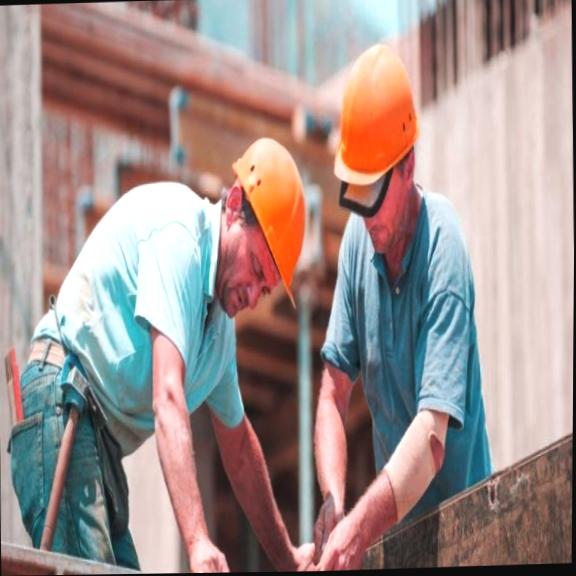no_safety_vest: (315, 198, 479, 571), (66, 174, 237, 499)
